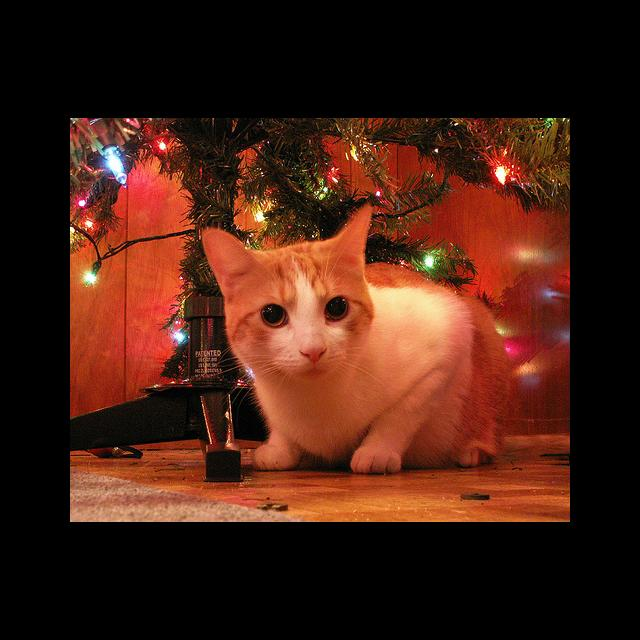animals: (205, 206, 368, 360)
